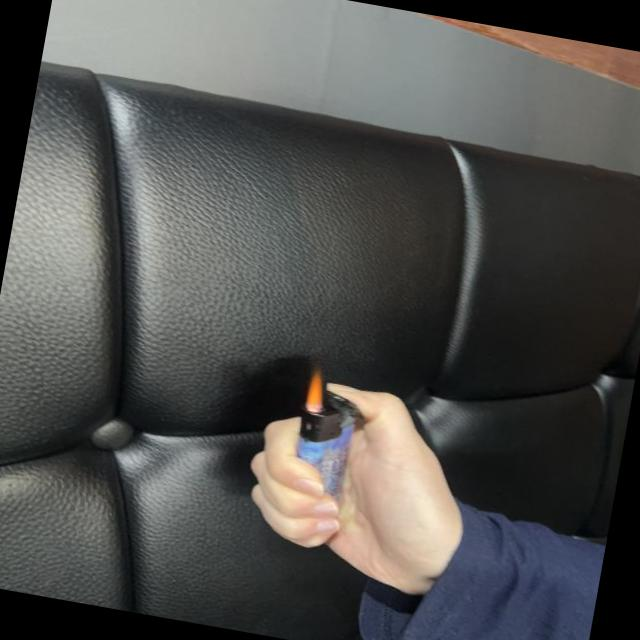Fire: (302, 364, 330, 414)
